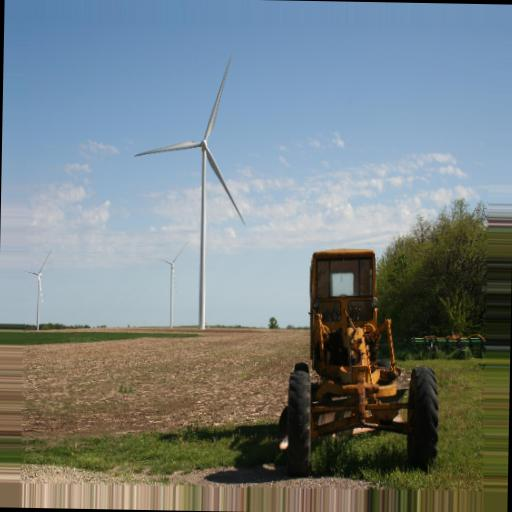wind turbine: (130, 55, 250, 329), (154, 240, 186, 325), (19, 246, 52, 326)
